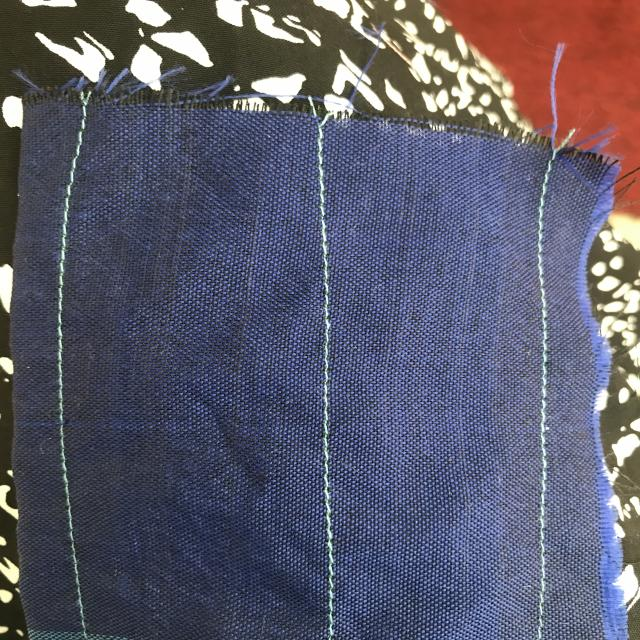good: (312, 454, 342, 578), (317, 280, 344, 408), (49, 287, 72, 433), (59, 508, 87, 587)
